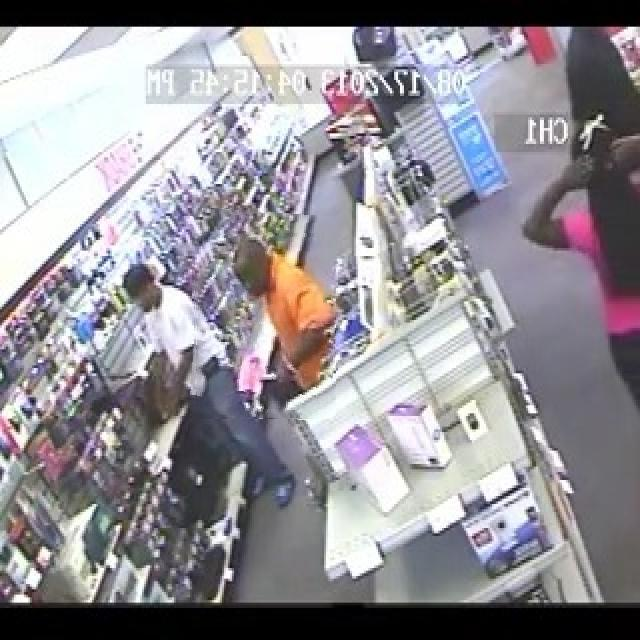Shoplifting: (193, 210, 336, 419)
